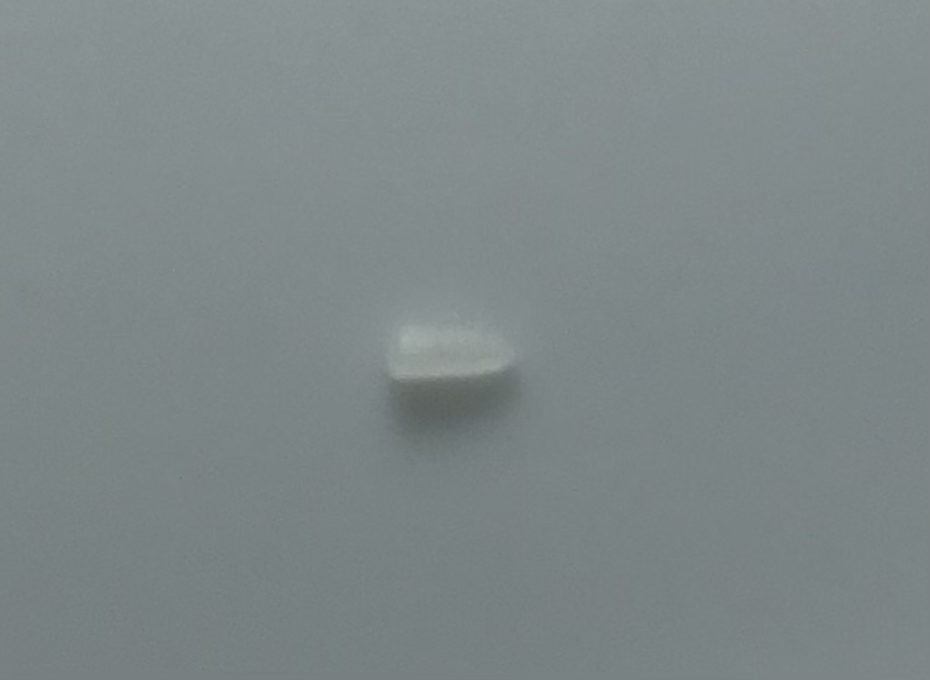Gao Tam: (382, 312, 519, 383)
